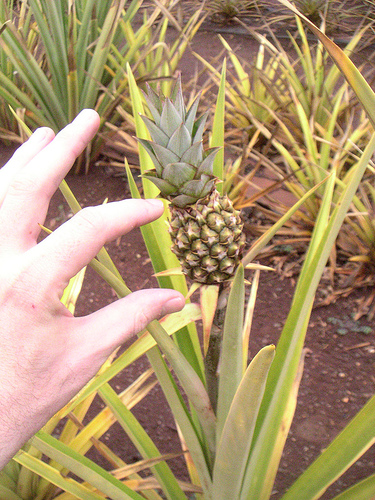pineapple: (130, 82, 247, 286)
